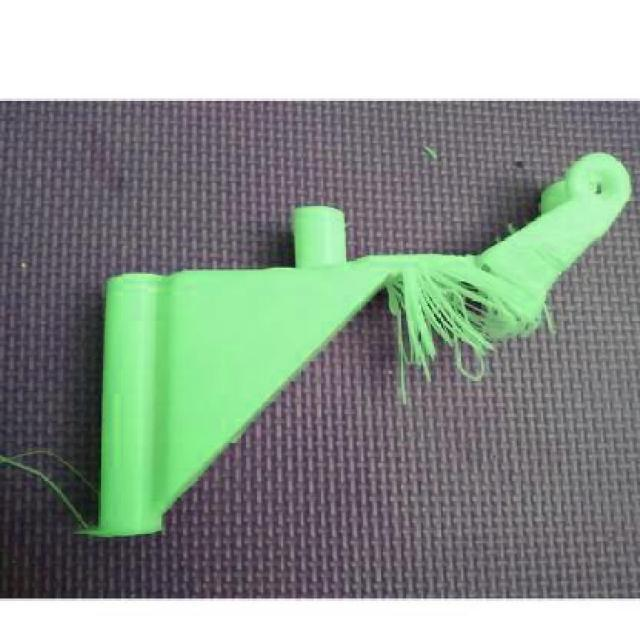spaghetti: (376, 265, 561, 408)
